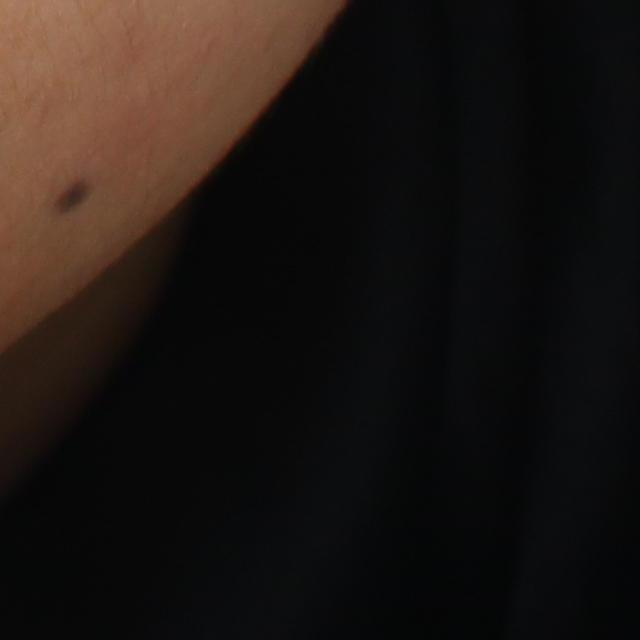nevus: (51, 177, 93, 214)
